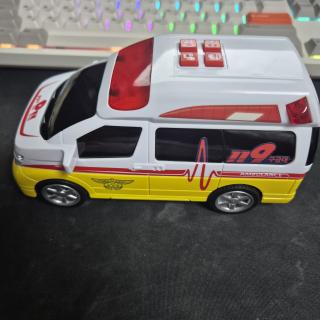Ambulance: (13, 35, 319, 212)
